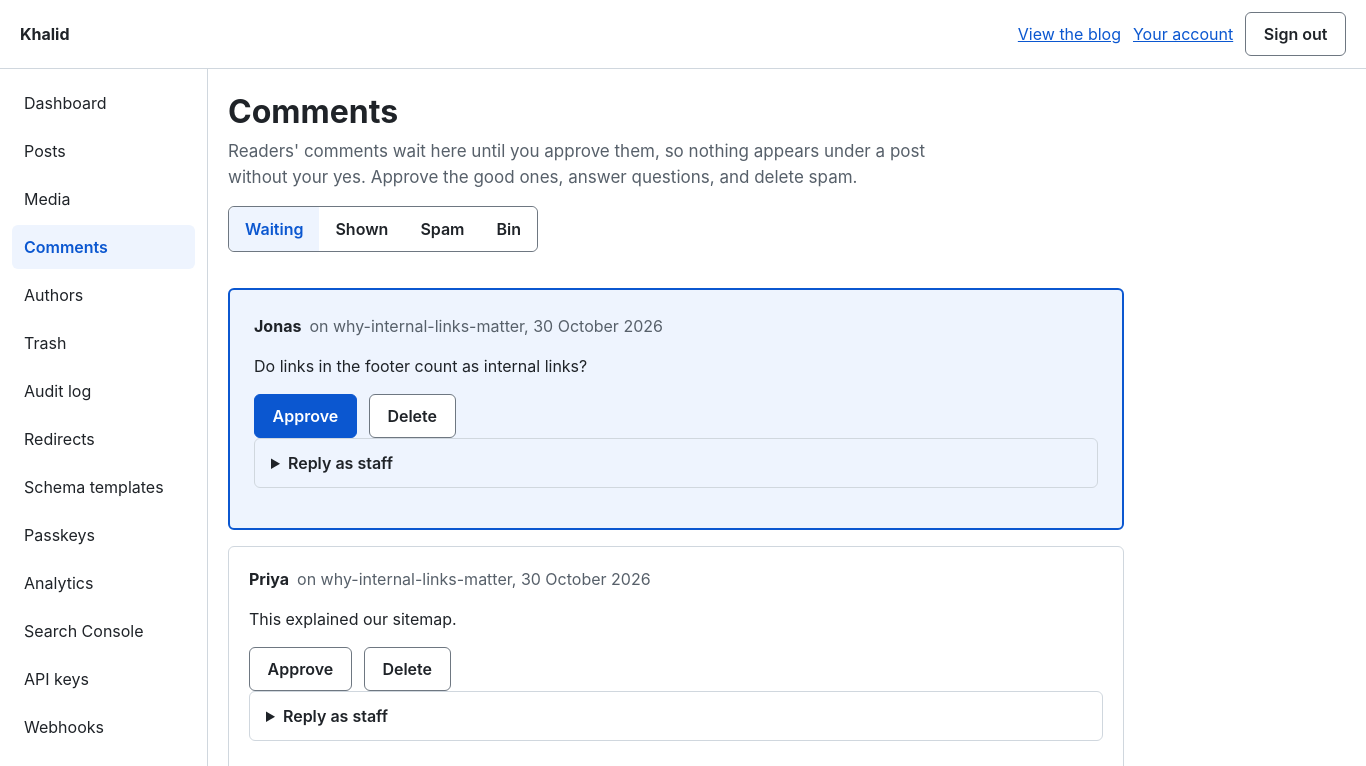
Scenario: the Comments screen › approves a comment, and it leaves the waiting list
The width and height of the screenshot is (1366, 766).
Click the button "Approve" below "Jonas".
click(305, 416)  # box [254,394,357,438]
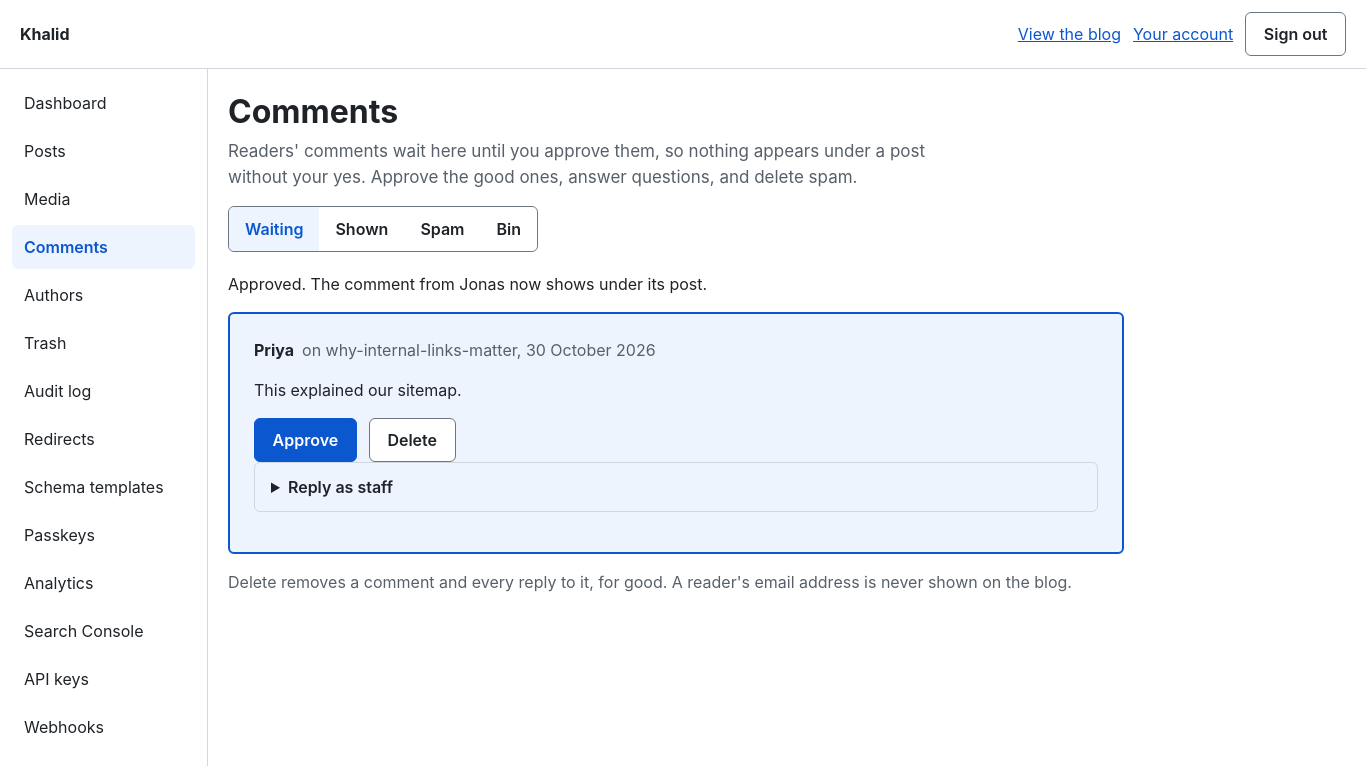
Check: the text "Do links in the footer count as internal links?" is gone
Click the button "Shown".
click(362, 229)  # box [320,207,404,251]
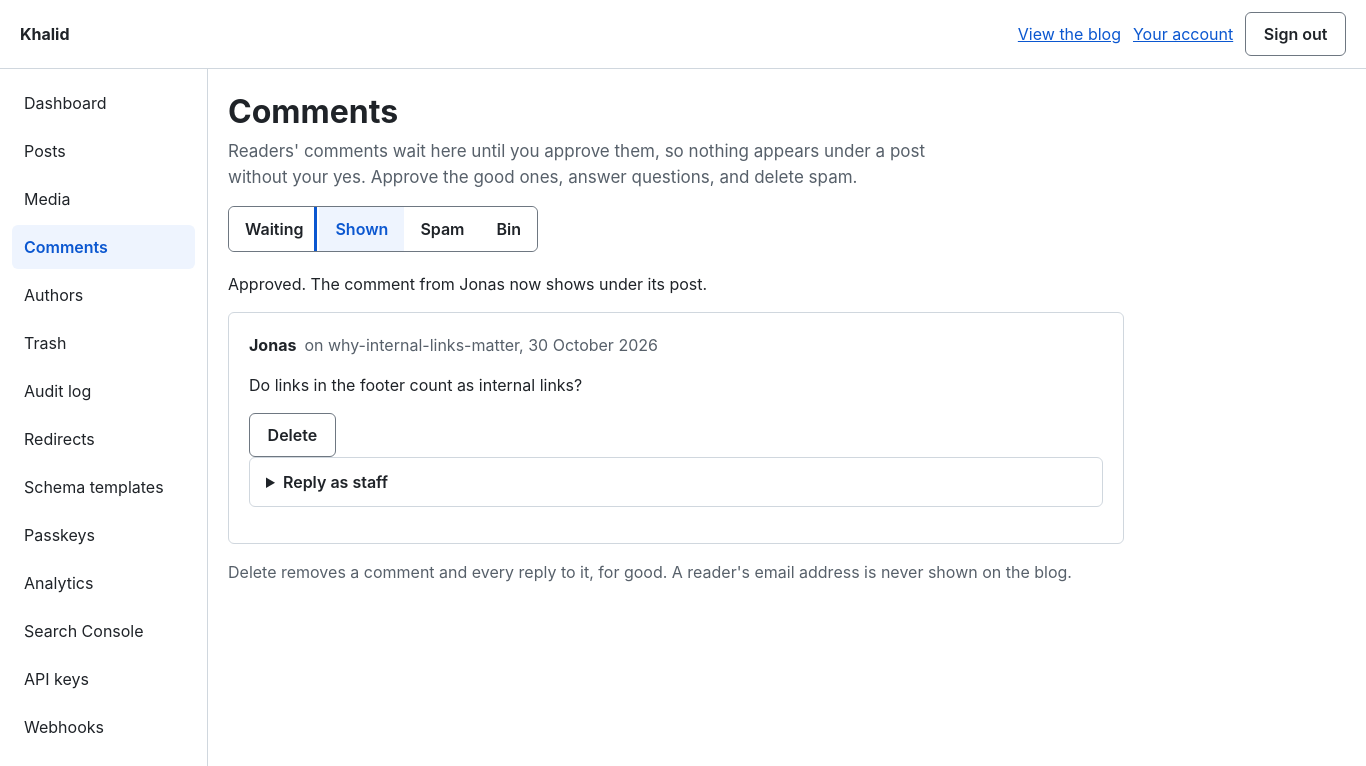
Check: the text "Do links in the footer count as internal links?" is shown, box [249,375,582,395]
